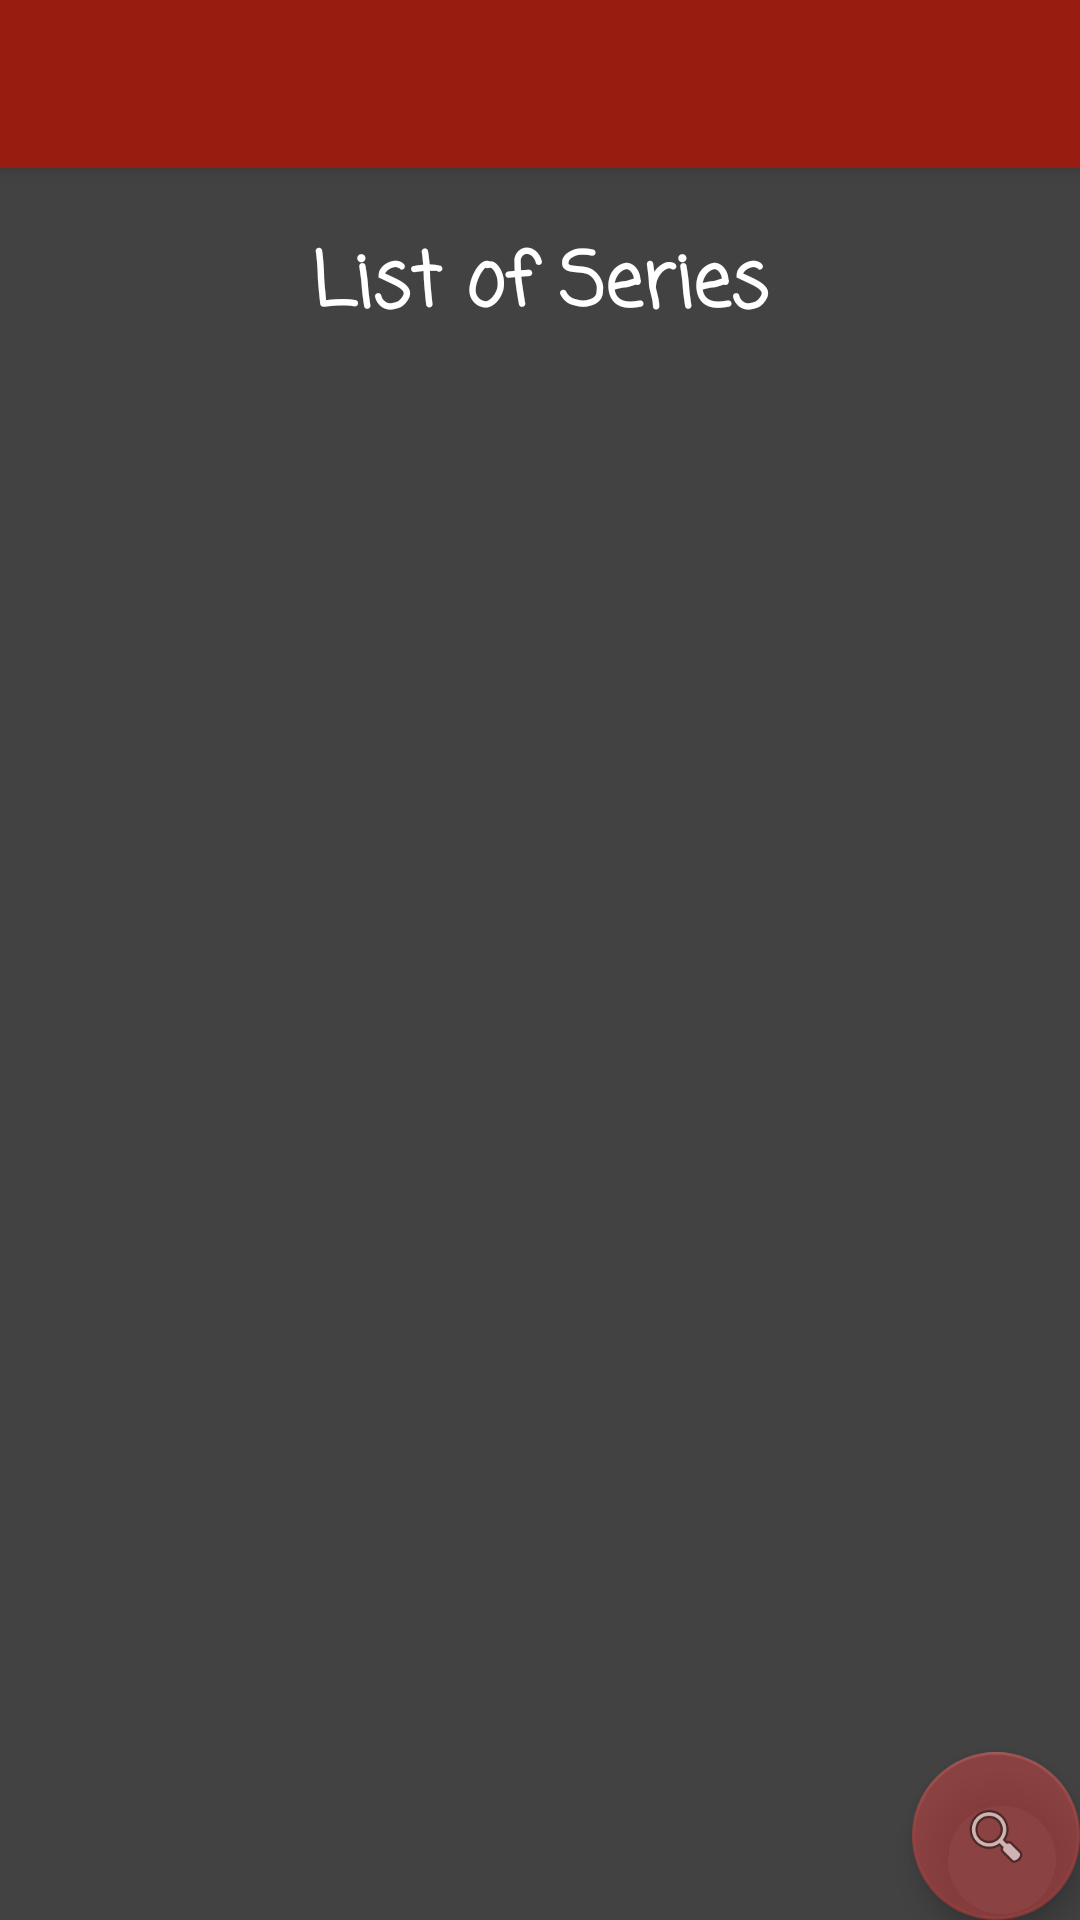

Icons on this 1080px x 1920px Android screen, each with its box as (x1, y1, x2, y2):
search: (912, 1752, 1080, 1920)
